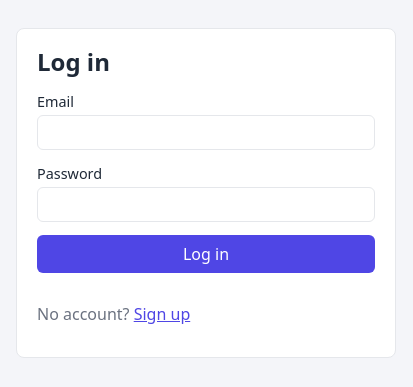
LoginPage › rejects an invalid email
Type "nope" into the field labelled "Email" at [206, 132], box [37,114,375,150]
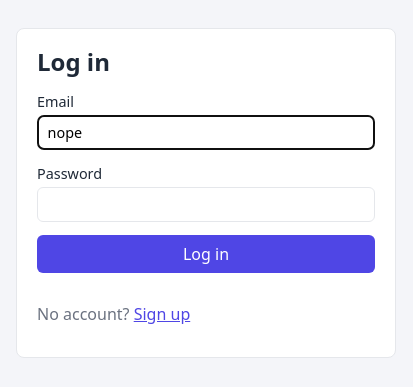
Type "secret123" into the password field labelled "Password" at [206, 204], box [37,186,375,222]
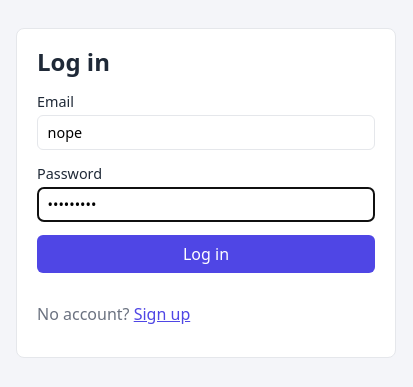
Click the button "Log in" at [206, 254], box [37,236,375,274]
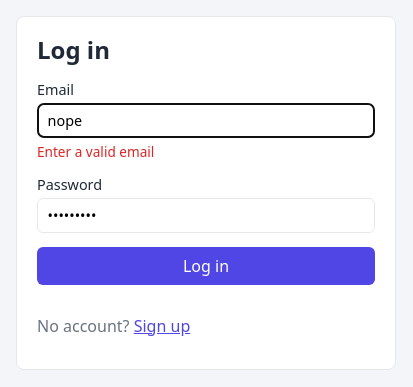
Expected: the text "Enter a valid email" is shown, [37,142,154,161]
